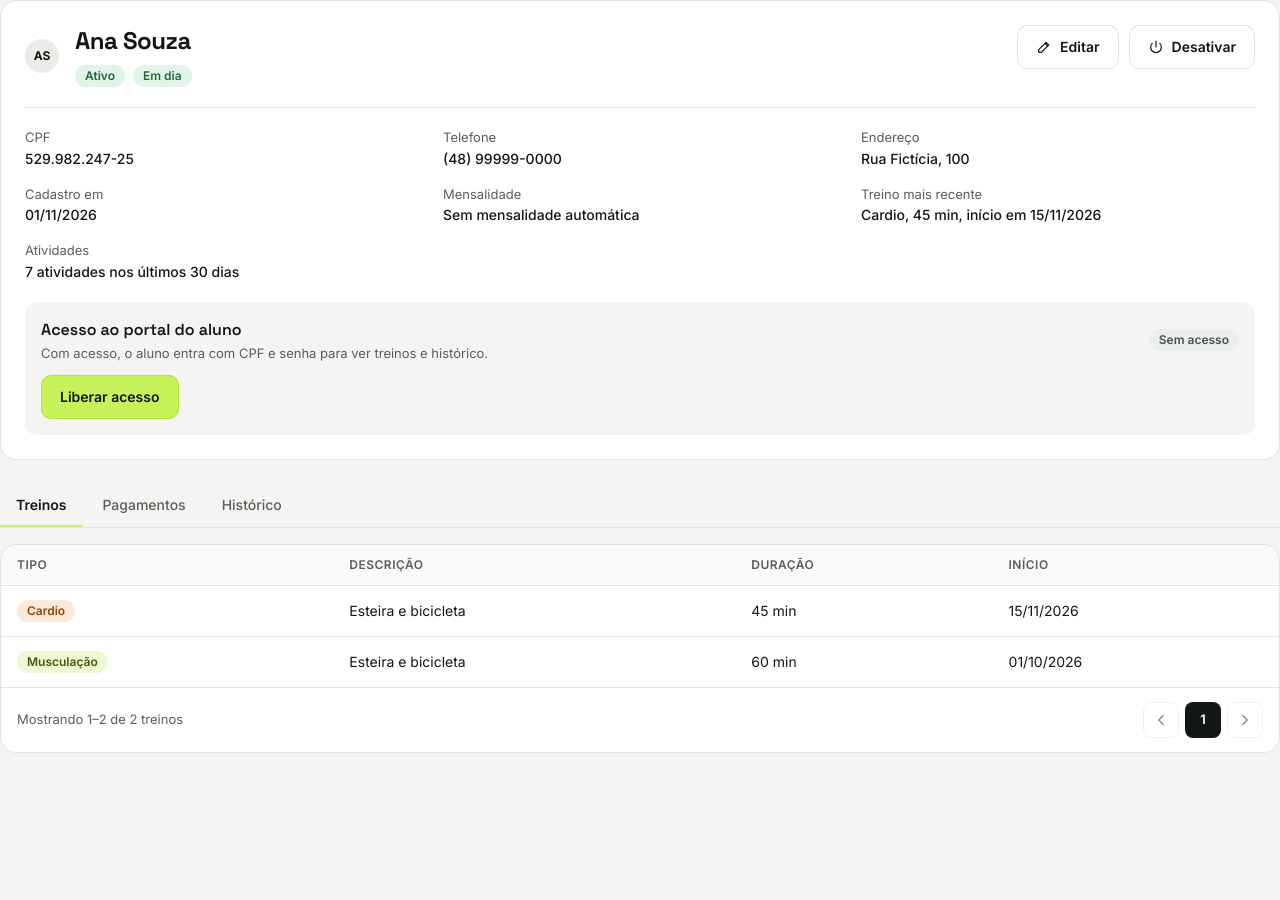
Scenario: FichaMembro › editar, desativar e reativar › desativa depois da confirmação, avisa e recarrega sem voltar para Carregando
Expected: the heading "Ana Souza" is shown, [75,25,192,57]
Click the button "Desativar" at (1192, 47), box [1129,25,1255,69]
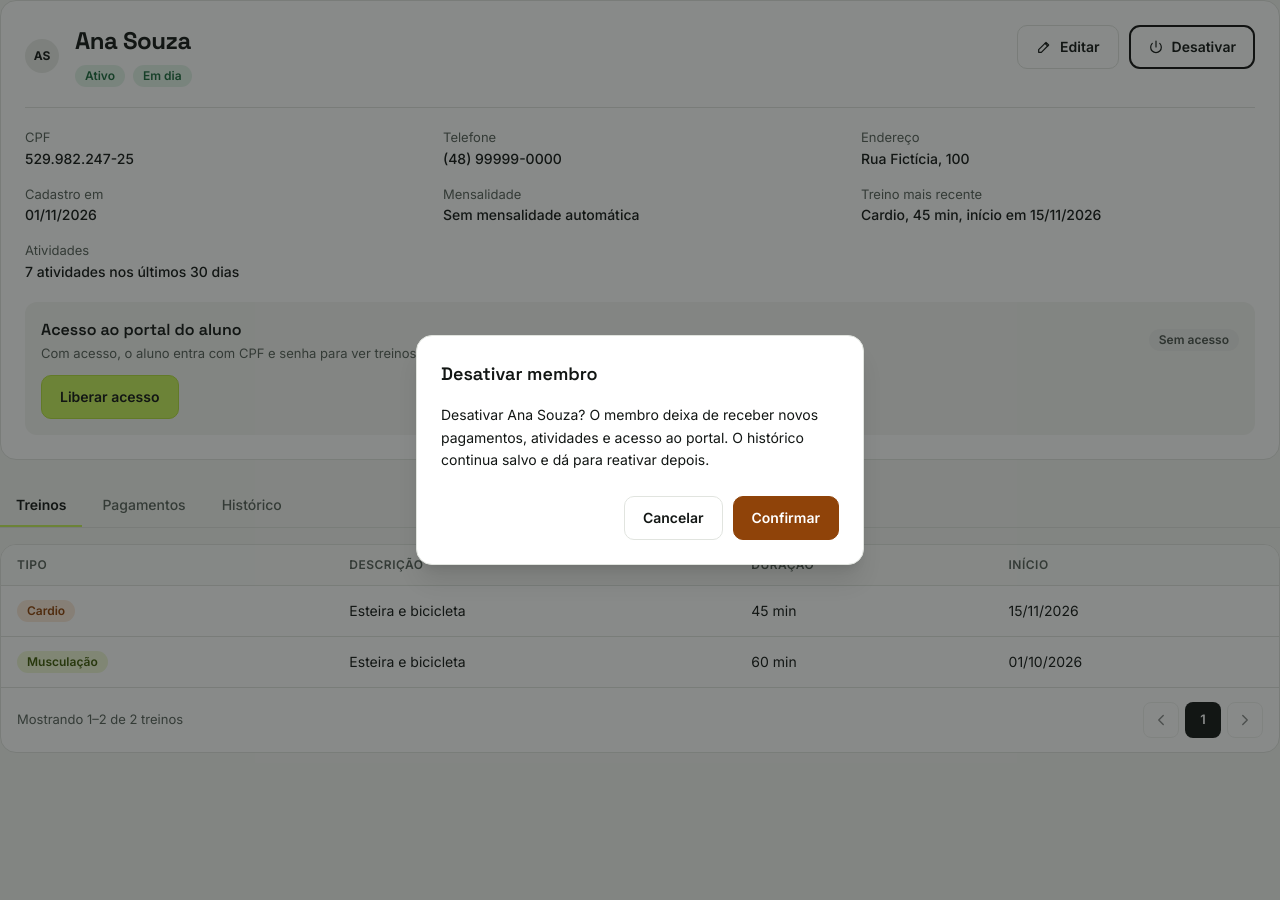
Click the button "Confirmar" at (786, 518), box [732,496,839,540]
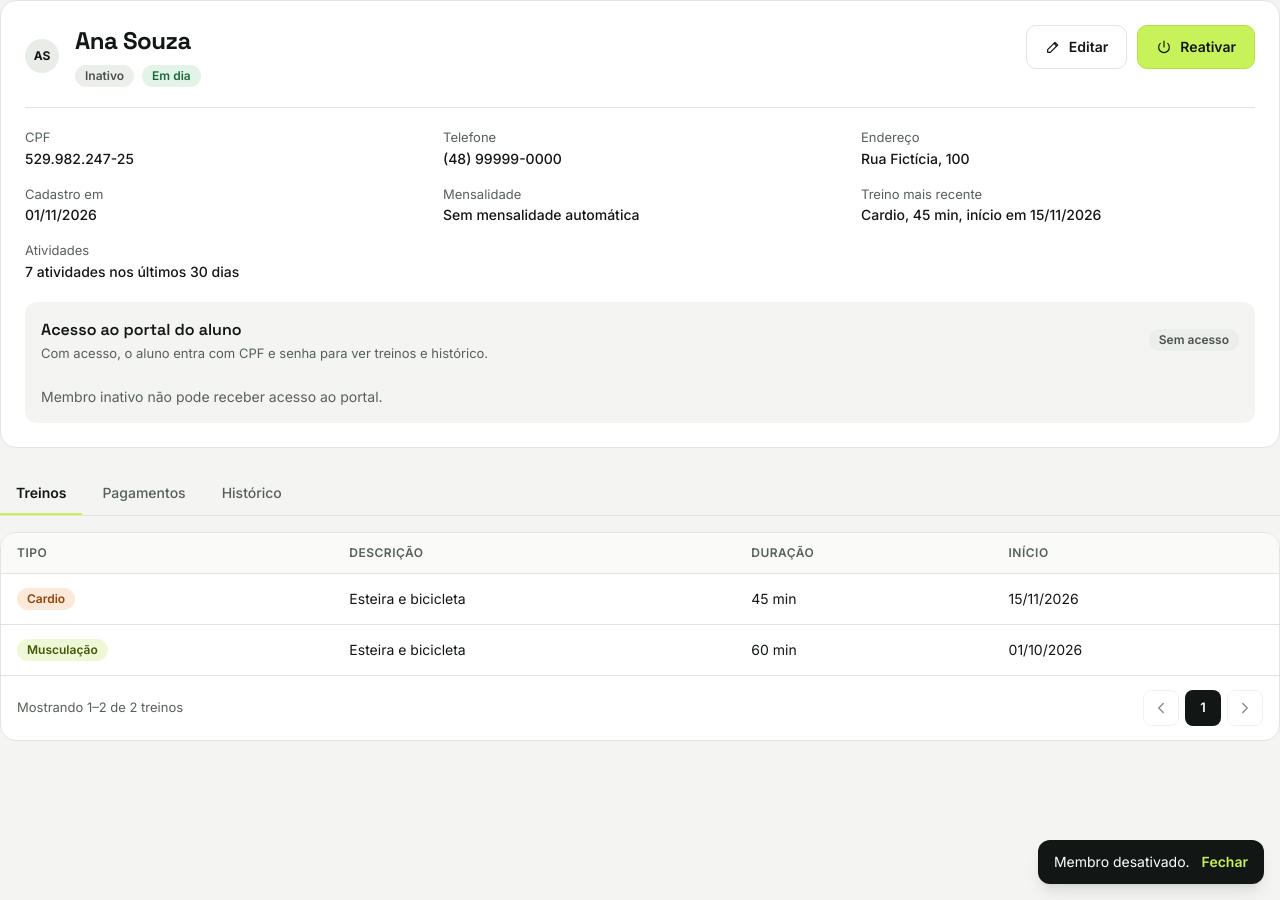
Expected: the text "Membro desativado." is shown, [1054,852,1190,872]
Expected: the dialog is gone
Expected: the button "Reativar" is shown, [1137,25,1255,69]
